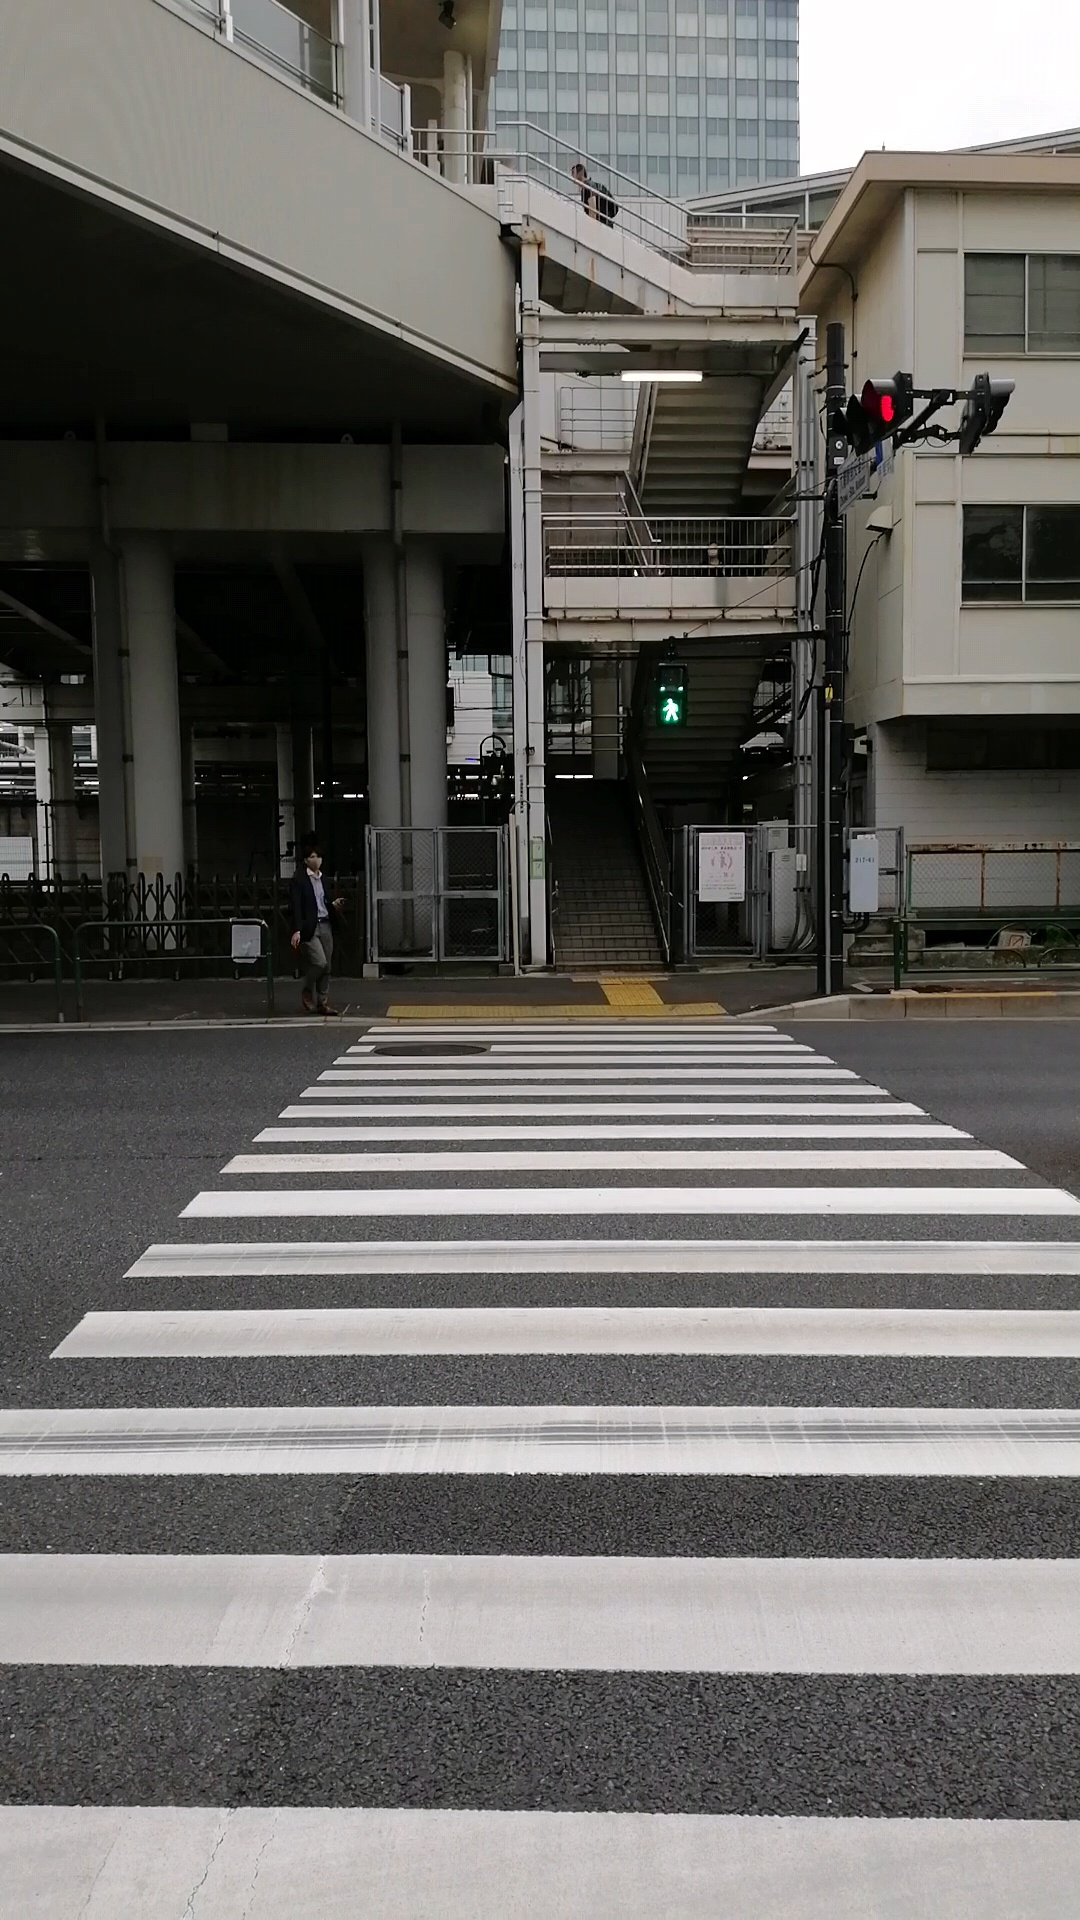green: (654, 663, 687, 728)
